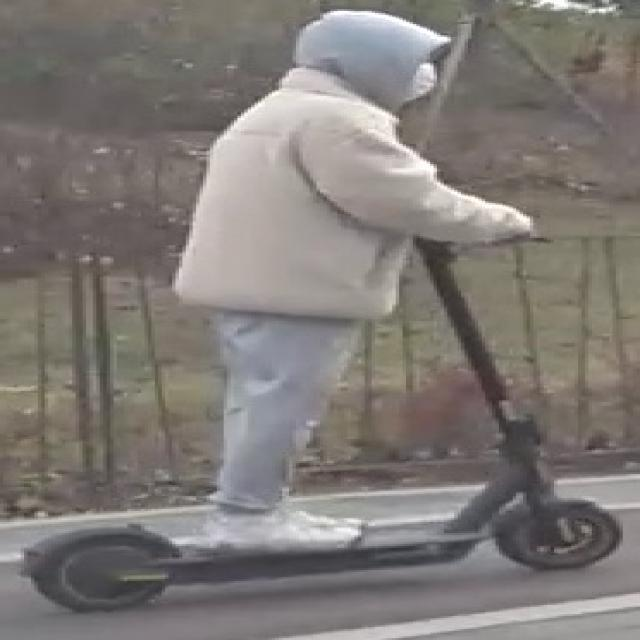with scooter: (22, 9, 621, 614)
